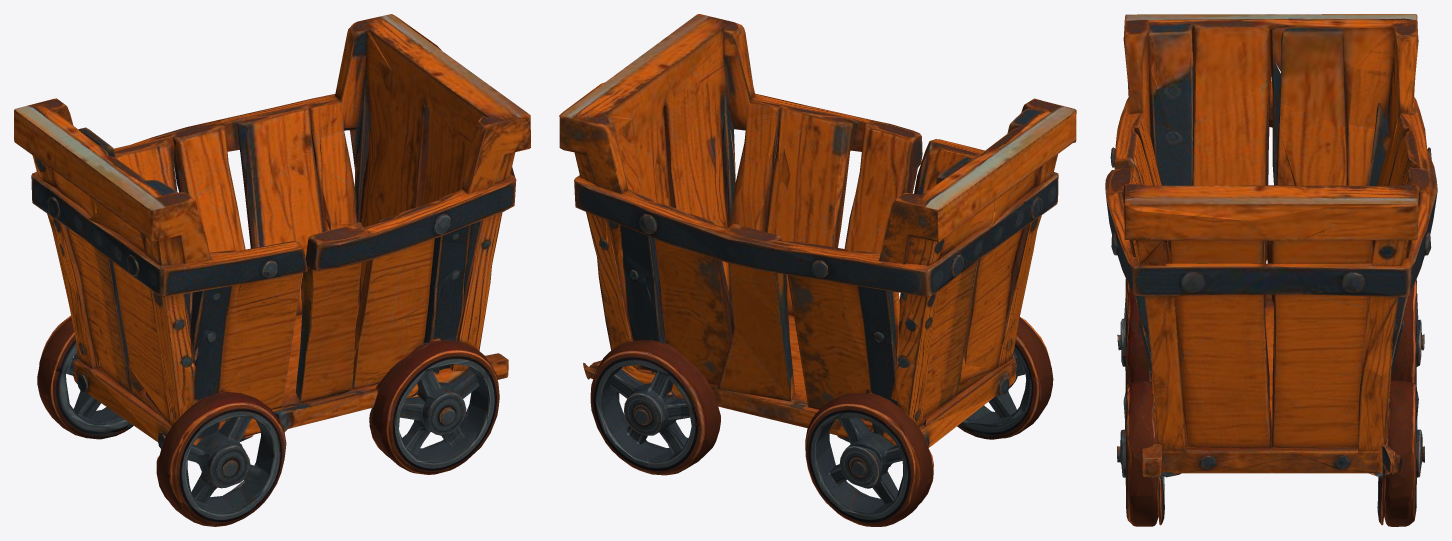
File: cen_carrinho_mina.glb
3 views of the same model, side by side, from view 1: azimuth 30°, elevation 25°; view 2: azimuth 150°, elevation 25°; view 3: azimuth 270°, elevation 25° (orthographic). The views are drawn at different scales.
Parts seen in each view (by area): view 1: carrinho; view 2: carrinho; view 3: carrinho.
Part boxes in pixels (x1,y1,x2,y2): carrinho: (14, 14, 530, 526); carrinho: (559, 14, 1076, 526); carrinho: (1105, 14, 1437, 526).
Size of the model in its own units: 1.9 by 1.63 by 1.36.
1 material, 1 textured.
